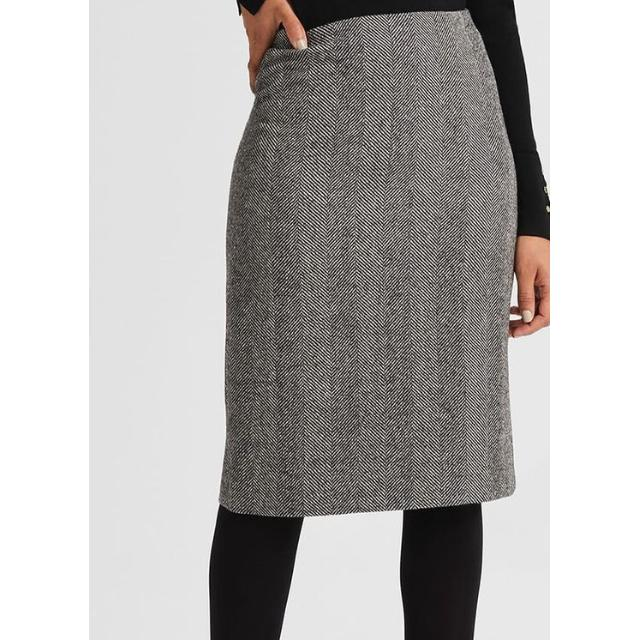wool: (89, 0, 529, 526)
